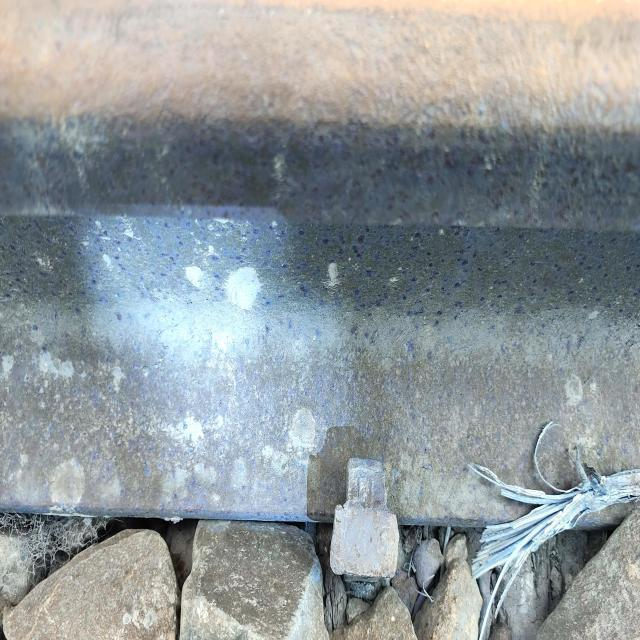Good Fasteners: (330, 458, 399, 578)
